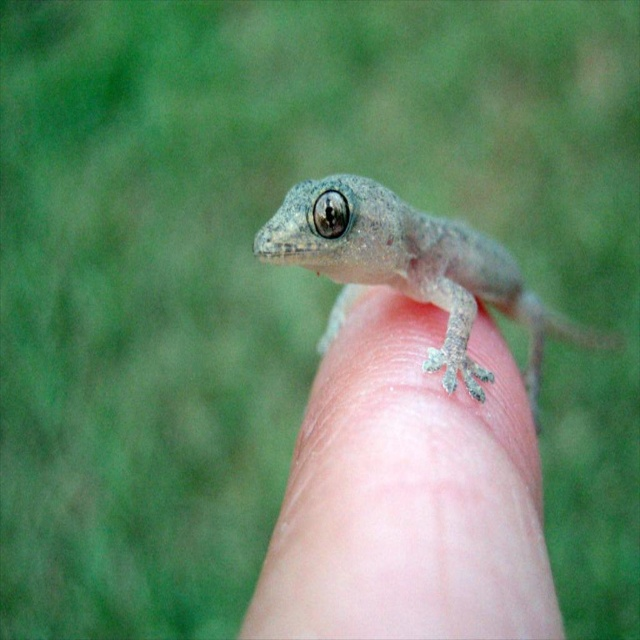Lizard: (253, 171, 623, 436)
